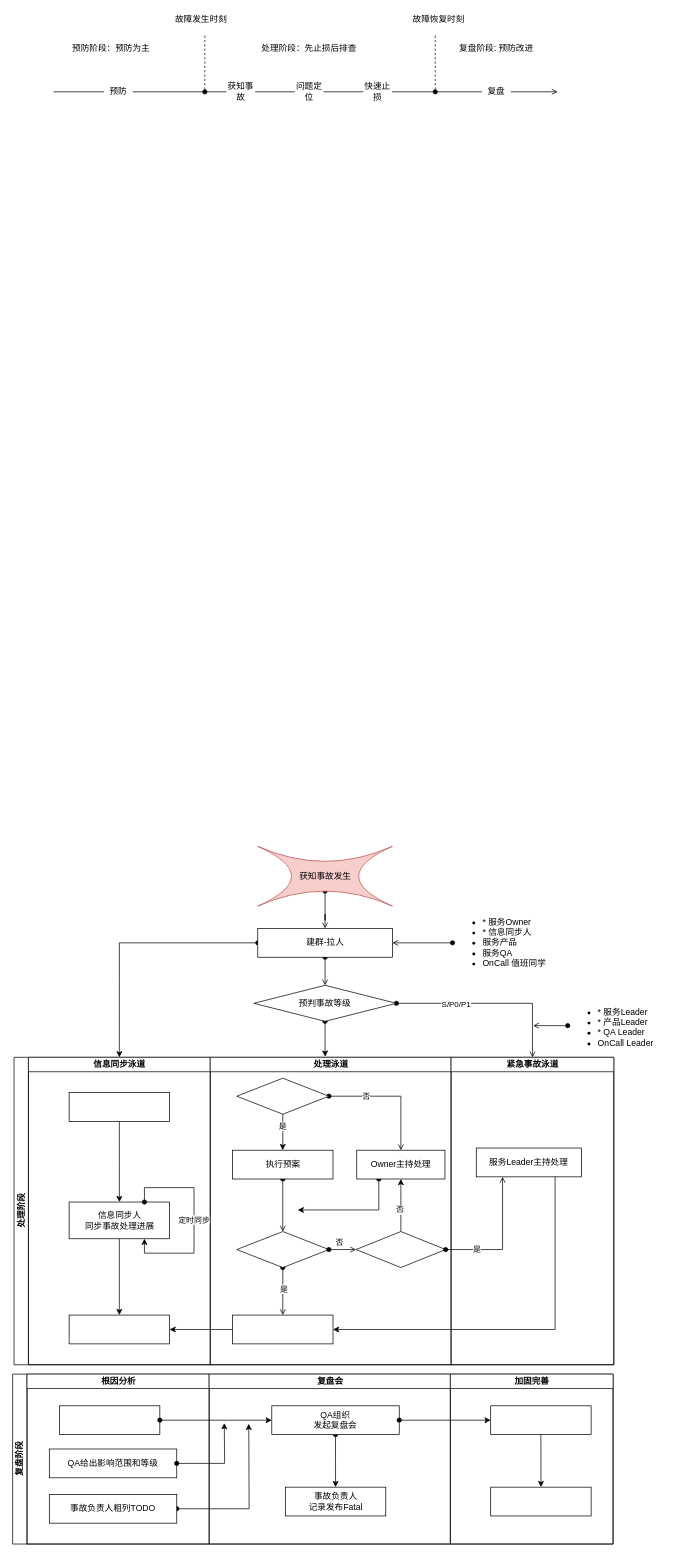
Image size: 698x1557. Some labels were removed from this diagram. Each missing label, with the centre of its shape:
"事故升级？" goes at pixel 400 1249.
"事故排查处理人 根因分析" goes at pixel 109 1420.
"信息同步人 同步事故处置结果" goes at pixel 119 1329.
"信息同步人 通告事故发生" goes at pixel 119 1106.
"加入预案or 测试计划" goes at pixel 540 1501.
"启动预案？" goes at pixel 282 1095.
"已止损？" goes at pixel 282 1249.
"应急止损结束" goes at pixel 282 1329.
"落地TODO" goes at pixel 540 1420.
